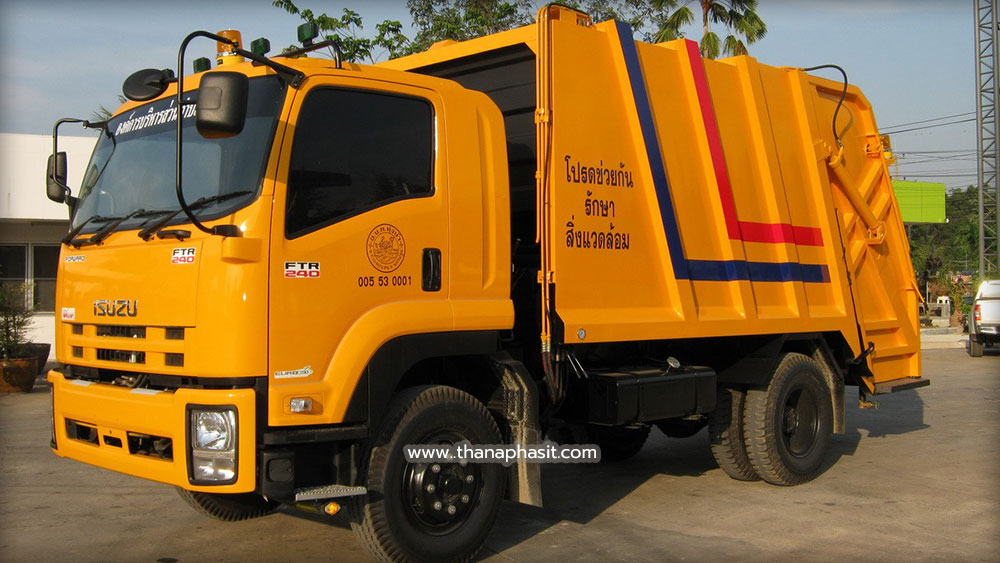truck: (46, 8, 555, 557)
